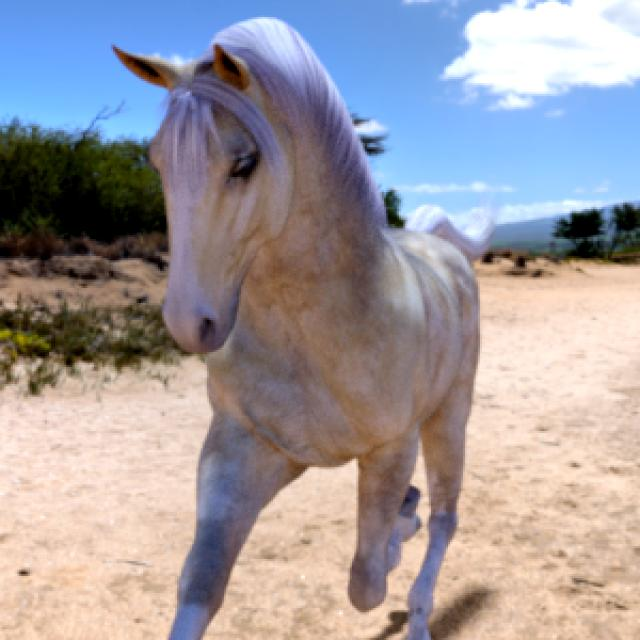horse: (114, 20, 492, 639)
